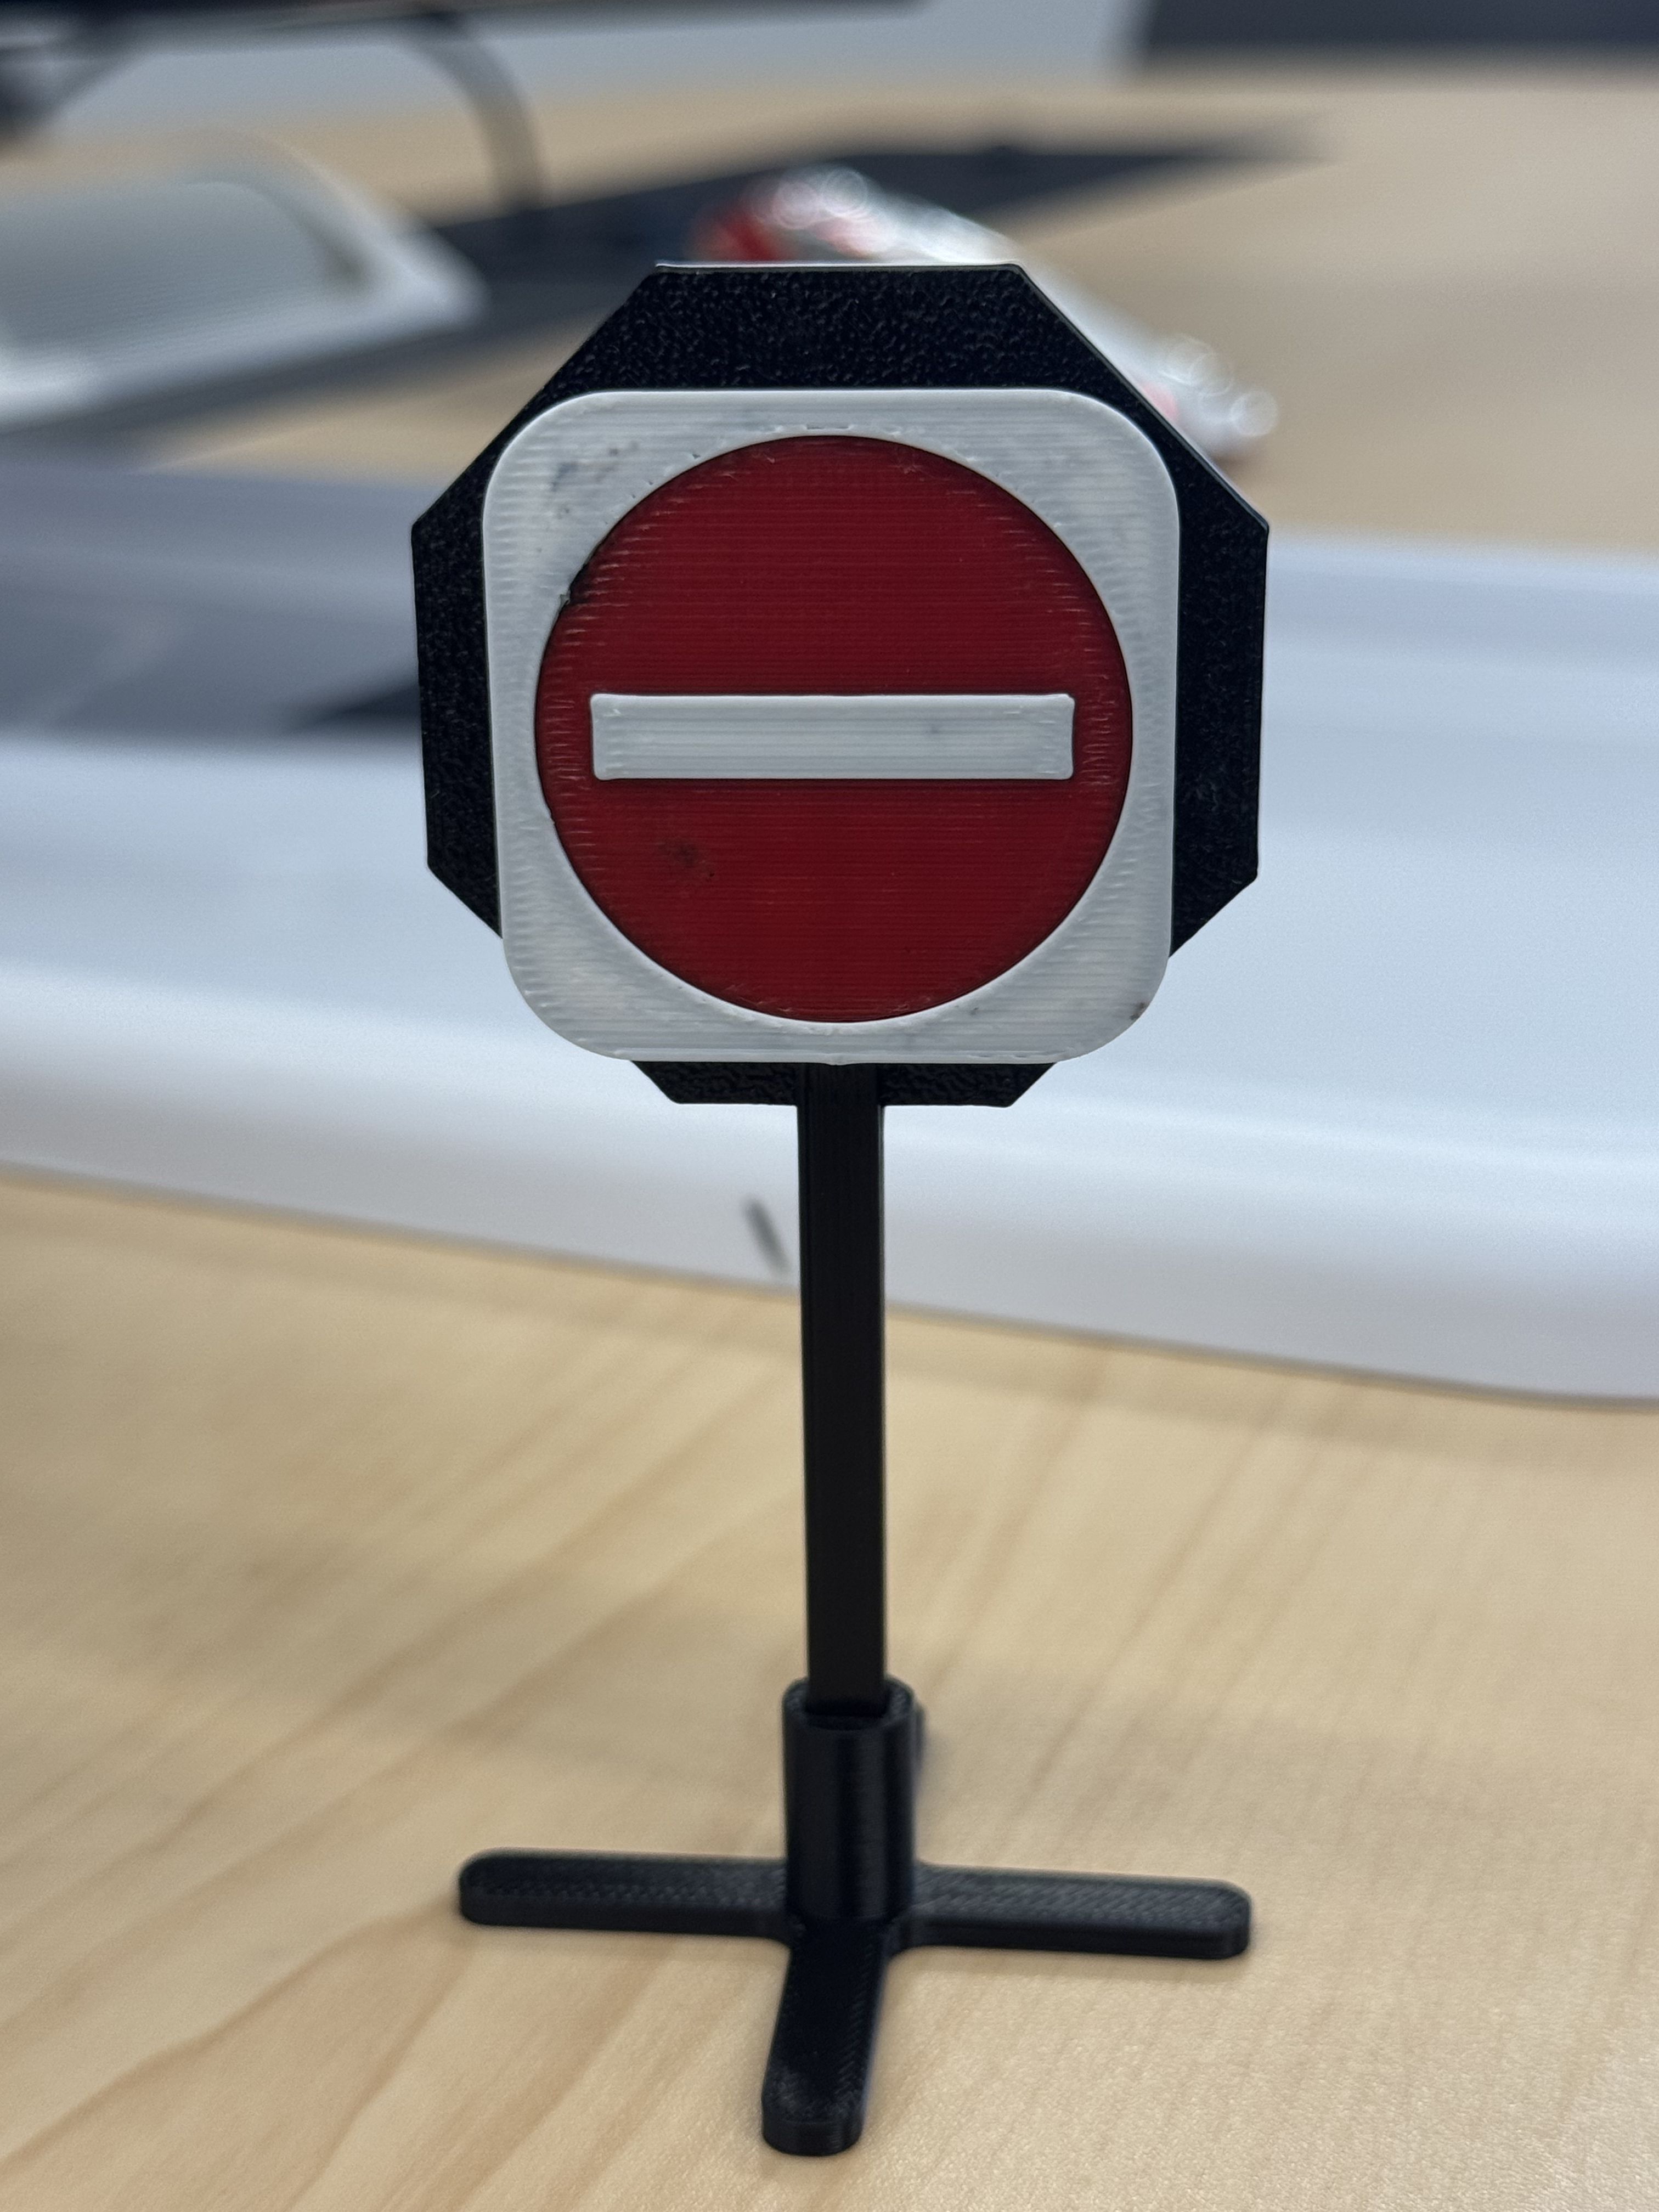sign_noentry: (411, 253, 1276, 2167)
